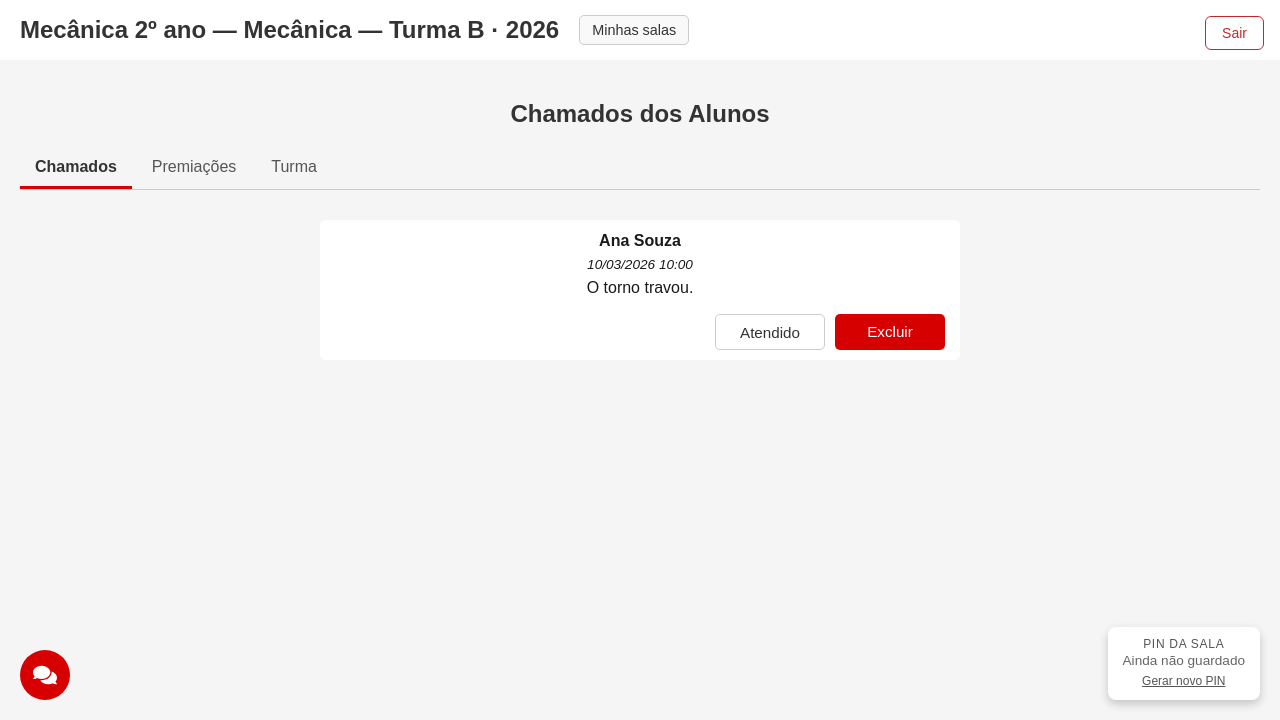
o PIN sempre à vista para o dono da sala (v1.1.0) › sala criada antes da v1.1.0, sem PIN guardado, oferece gerar um novo
Note: O botão aparece quando a leitura do PIN guardado termina.
Click the button "Gerar novo PIN" at (1184, 681), box [1134,672,1234,690]
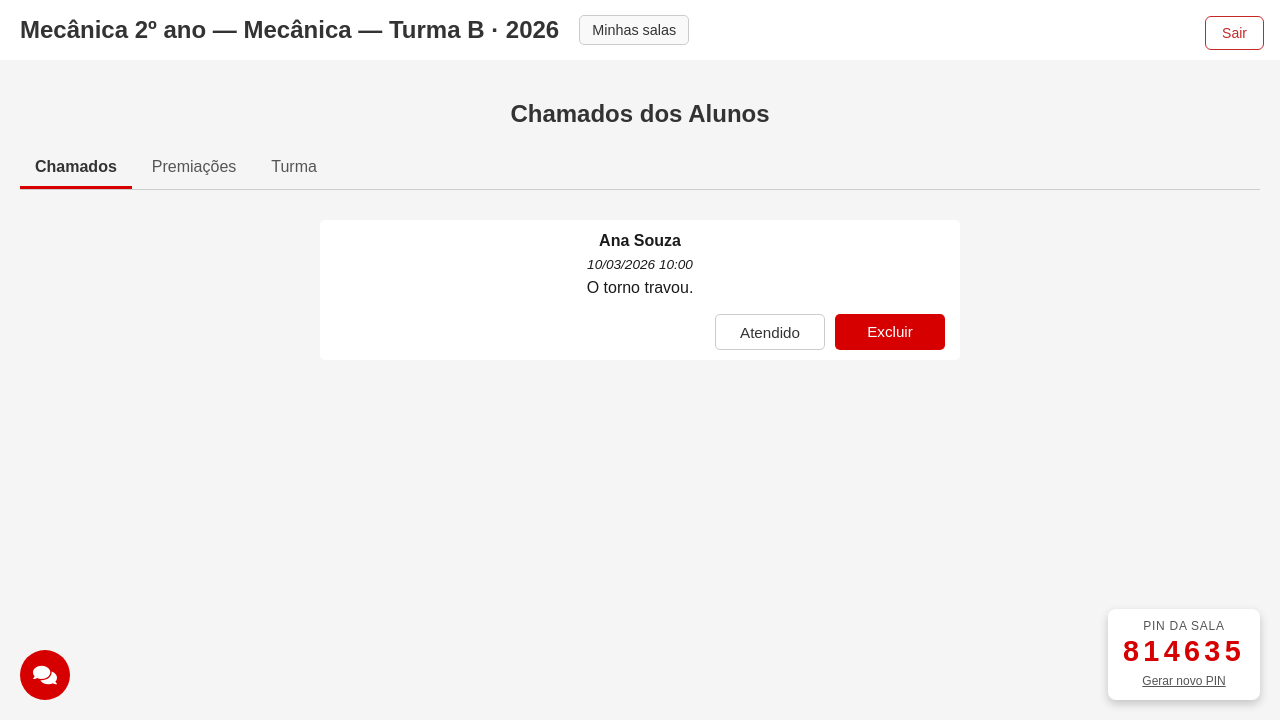
Check: the text "814635" is shown, box [1123,635,1245,668]
